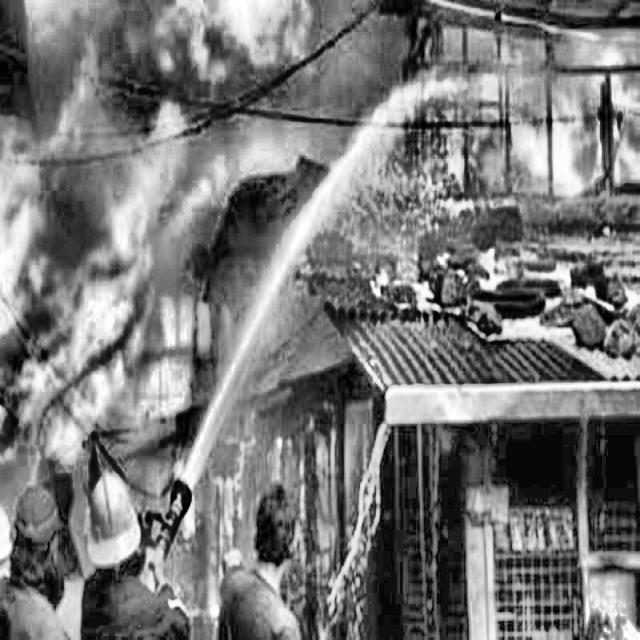fire: (1, 13, 350, 640), (370, 16, 640, 341)
